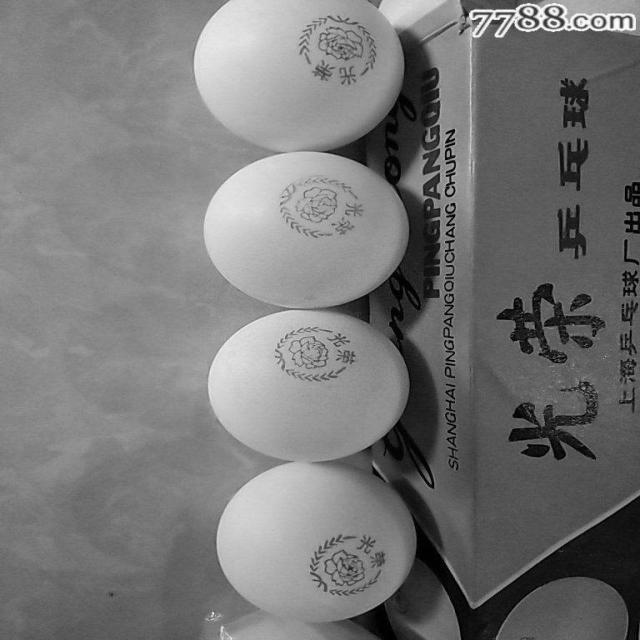ping-pong-ball: (199, 147, 413, 310), (212, 458, 418, 625), (198, 305, 414, 464), (199, 5, 393, 144)
